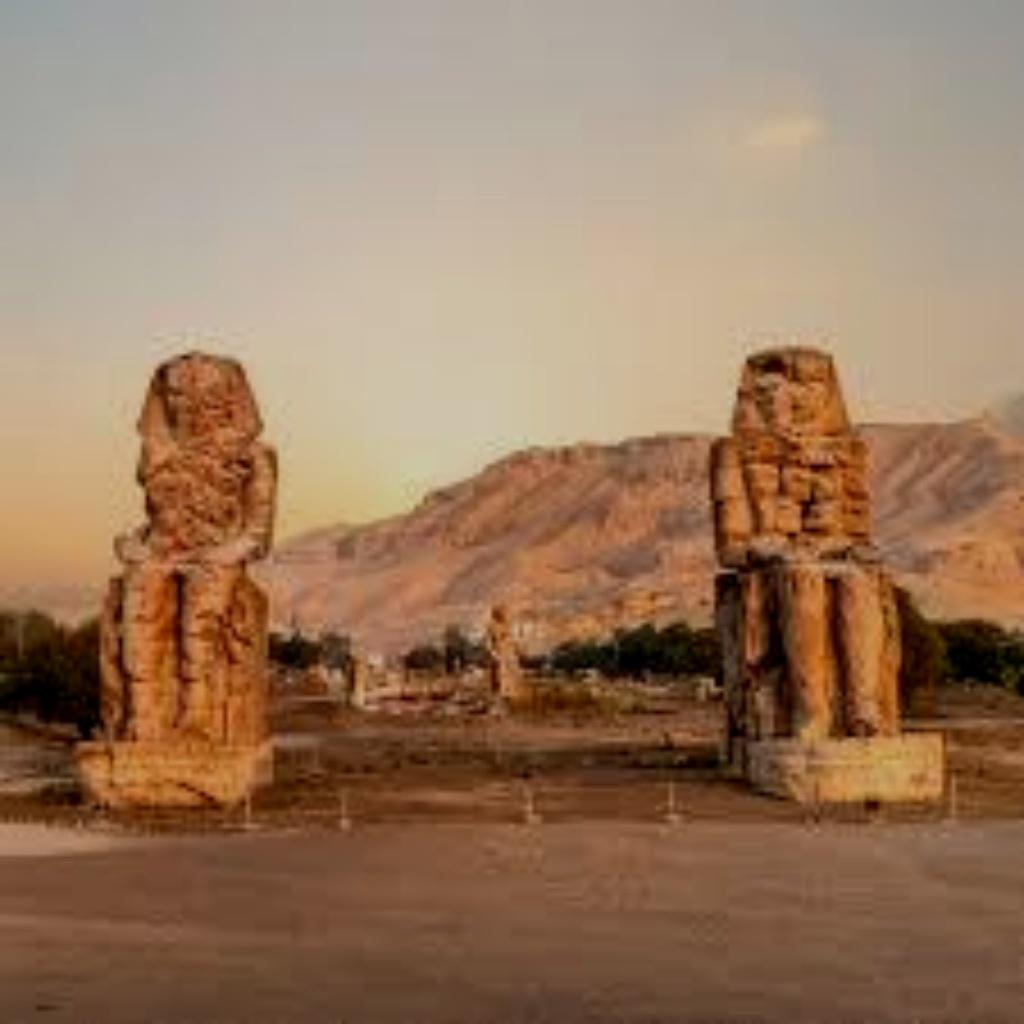Colossoi of Memnon: (701, 336, 947, 806), (68, 346, 282, 815)
